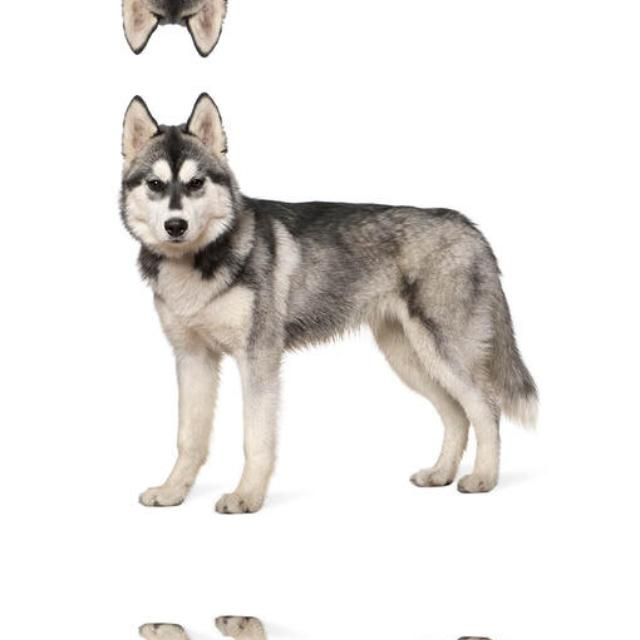dog: (110, 87, 552, 530), (110, 0, 552, 61), (110, 599, 552, 640)
